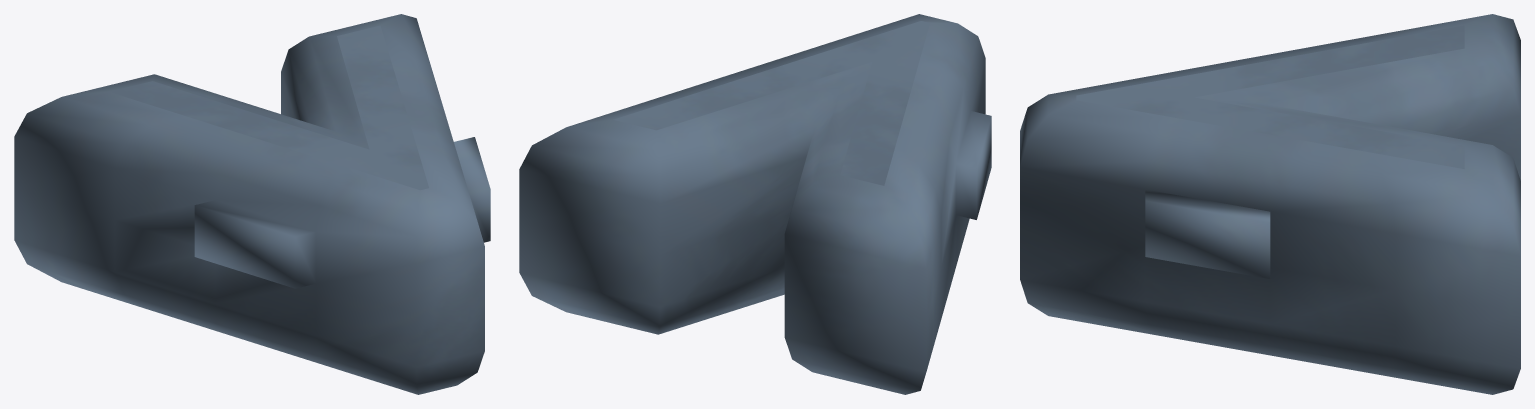
The model's file is flyingV.obj.
The picture shows the model from 3 angles, left to right: view 1: azimuth 30°, elevation 25°; view 2: azimuth 150°, elevation 25°; view 3: azimuth 270°, elevation 25°; orthographic projection. The views are drawn at different scales.
Visible parts, largest first — view 1: Text; view 2: Text; view 3: Text.
Boxes of the visible parts, x1=… form: Text: x1=14, y1=14, x2=490, y2=394; Text: x1=519, y1=14, x2=991, y2=394; Text: x1=1020, y1=14, x2=1520, y2=394.
Size of the model in its own units: 1.97 by 0.914 by 1.93.
